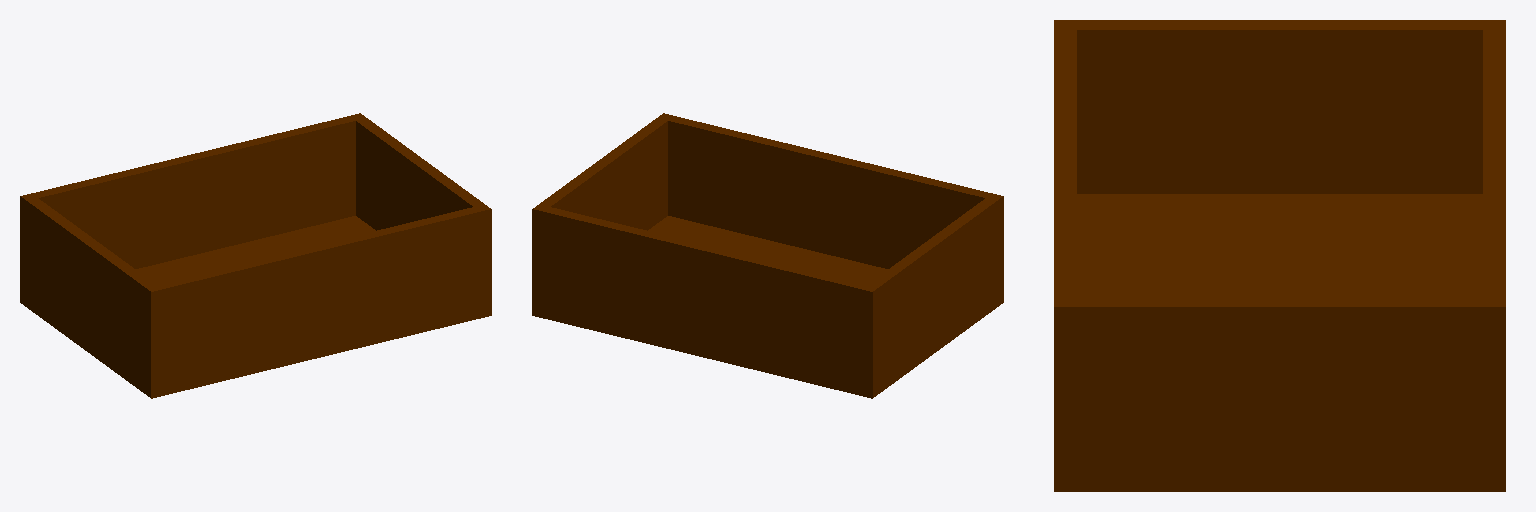
URDF robot description (container_no_lid):
<?xml version="1.0" encoding="utf-8"?>
<!-- =================================================================================== -->
<!-- |    This document was autogenerated by xacro from [local-path]/GS/catkin_ws/src/moma/moma_gazebo/data/models/container/container_no_lid.urdf.xacro | -->
<!-- |    EDITING THIS FILE BY HAND IS NOT RECOMMENDED                                 | -->
<!-- =================================================================================== -->
<robot name="container_no_lid">
  <material name="white">
    <color rgba="1 1 1 1"/>
  </material>
  <material name="dark_brown">
    <color rgba="0.4 0.2 0.0 1"/>
  </material>
  <material name="light_brown">
    <color rgba="0.6 0.29 0.0 1"/>
  </material>
  <material name="silver">
    <color rgba="0.87 0.87 0.87 0.8"/>
  </material>
  <link name="base_link">
    <inertial>
      <origin rpy="0 0 0" xyz="0 0 0"/>
      <mass value="0.0"/>
      <inertia ixx="1" ixy="0" ixz="0" iyy="1" iyz="0" izz="1"/>
    </inertial>
  </link>
  <link name="frame_bottom_plane">
    <contact>
      <lateral_friction value="1.0"/>
    </contact>
    <inertial>
      <origin rpy="0 0 0" xyz="0 0 0"/>
      <mass value="0.2"/>
      <inertia ixx="1" ixy="0" ixz="0" iyy="1" iyz="0" izz="1"/>
    </inertial>
    <visual>
      <origin rpy="0 0 0" xyz="0 0 0"/>
      <geometry>
        <box size="0.3 0.2 0.01"/>
      </geometry>
      <material name="dark_brown"/>
    </visual>
    <collision>
      <origin rpy="0 0 0" xyz="0 0 0"/>
      <geometry>
        <box size="0.3 0.2 0.01"/>
      </geometry>
    </collision>
  </link>
  <link name="frame_back_plane">
    <contact>
      <lateral_friction value="1.0"/>
    </contact>
    <inertial>
      <origin rpy="0 0 0" xyz="0 0 0"/>
      <mass value="0.2"/>
      <inertia ixx="1" ixy="0" ixz="0" iyy="1" iyz="0" izz="1"/>
    </inertial>
    <visual>
      <origin rpy="0 0 0" xyz="0 0 0"/>
      <geometry>
        <box size="0.3 0.09 0.01"/>
      </geometry>
      <material name="dark_brown"/>
    </visual>
    <collision>
      <origin rpy="0 0 0" xyz="0 0 0"/>
      <geometry>
        <box size="0.3 0.09 0.01"/>
      </geometry>
    </collision>
  </link>
  <joint name="frame_back_joint" type="fixed">
    <origin rpy="1.57079632679 0 0" xyz="0 0.095 0.04"/>
    <parent link="frame_bottom_plane"/>
    <child link="frame_back_plane"/>
  </joint>
  <link name="frame_left_plane">
    <contact>
      <lateral_friction value="1.0"/>
    </contact>
    <inertial>
      <origin rpy="0 0 0" xyz="0 0 0"/>
      <mass value="0.2"/>
      <inertia ixx="1" ixy="0" ixz="0" iyy="1" iyz="0" izz="1"/>
    </inertial>
    <visual>
      <origin rpy="0 0 0" xyz="0 0 0"/>
      <geometry>
        <box size="0.18 0.09 0.01"/>
      </geometry>
      <material name="dark_brown"/>
    </visual>
    <collision>
      <origin rpy="0 0 0" xyz="0 0 0"/>
      <geometry>
        <box size="0.18 0.09 0.01"/>
      </geometry>
    </collision>
  </link>
  <joint name="frame_left_joint" type="fixed">
    <origin rpy="1.57079632679 0 1.57079632679" xyz="-0.145 0 0.04"/>
    <parent link="frame_bottom_plane"/>
    <child link="frame_left_plane"/>
  </joint>
  <link name="frame_right_plane">
    <contact>
      <lateral_friction value="1.0"/>
    </contact>
    <inertial>
      <origin rpy="0 0 0" xyz="0 0 0"/>
      <mass value="0.2"/>
      <inertia ixx="1" ixy="0" ixz="0" iyy="1" iyz="0" izz="1"/>
    </inertial>
    <visual>
      <origin rpy="0 0 0" xyz="0 0 0"/>
      <geometry>
        <box size="0.18 0.09 0.01"/>
      </geometry>
      <material name="dark_brown"/>
    </visual>
    <collision>
      <origin rpy="0 0 0" xyz="0 0 0"/>
      <geometry>
        <box size="0.18 0.09 0.01"/>
      </geometry>
    </collision>
  </link>
  <joint name="frame_right_joint" type="fixed">
    <origin rpy="1.57079632679 0 1.57079632679" xyz="0.145 0 0.04"/>
    <parent link="frame_bottom_plane"/>
    <child link="frame_right_plane"/>
  </joint>
  <link name="frame_front_plane">
    <contact>
      <lateral_friction value="1.0"/>
    </contact>
    <inertial>
      <origin rpy="0 0 0" xyz="0 0 0"/>
      <mass value="0.2"/>
      <inertia ixx="1" ixy="0" ixz="0" iyy="1" iyz="0" izz="1"/>
    </inertial>
    <visual>
      <origin rpy="0 0 0" xyz="0 0 0"/>
      <geometry>
        <box size="0.3 0.09 0.01"/>
      </geometry>
      <material name="dark_brown"/>
    </visual>
    <collision>
      <origin rpy="0 0 0" xyz="0 0 0"/>
      <geometry>
        <box size="0.3 0.09 0.01"/>
      </geometry>
    </collision>
  </link>
  <joint name="frame_front_joint" type="fixed">
    <origin rpy="1.57079632679 0 0" xyz="0 -0.095 0.04"/>
    <parent link="frame_bottom_plane"/>
    <child link="frame_front_plane"/>
  </joint>
  <joint name="frame_joint" type="fixed">
    <origin rpy="0 0 0" xyz="0 0 0.005"/>
    <parent link="base_link"/>
    <child link="frame_bottom_plane"/>
  </joint>
</robot>

--- Facts derived from the render (not from the file) ---
3 views of the same robot in one strip: view 1: azimuth 30°, elevation 25°; view 2: azimuth 150°, elevation 25°; view 3: azimuth 270°, elevation 25° (orthographic).
Model container_no_lid with 6 links and 5 joints (5 fixed), rooted at base_link, posed all joints at 0.
Links seen in each view (by area): view 1: frame_front_plane, frame_back_plane, frame_left_plane, frame_bottom_plane, frame_right_plane; view 2: frame_back_plane, frame_front_plane, frame_left_plane, frame_right_plane, frame_bottom_plane; view 3: frame_right_plane, frame_left_plane, frame_bottom_plane, frame_front_plane, frame_back_plane.
Link boxes in pixels (left/top/right/bottom): frame_front_plane: left=145, top=204, right=491, bottom=398; frame_back_plane: left=20, top=113, right=365, bottom=306; frame_left_plane: left=27, top=198, right=155, bottom=390; frame_bottom_plane: left=20, top=216, right=491, bottom=398; frame_right_plane: left=356, top=118, right=483, bottom=230; frame_back_plane: left=532, top=204, right=878, bottom=397; frame_front_plane: left=658, top=113, right=1003, bottom=306; frame_left_plane: left=868, top=198, right=996, bottom=390; frame_right_plane: left=540, top=118, right=667, bottom=230; frame_bottom_plane: left=532, top=216, right=1003, bottom=398; frame_right_plane: left=1077, top=298, right=1482, bottom=491; frame_left_plane: left=1077, top=20, right=1482, bottom=193; frame_bottom_plane: left=1054, top=194, right=1505, bottom=491; frame_front_plane: left=1054, top=20, right=1076, bottom=491; frame_back_plane: left=1483, top=20, right=1505, bottom=491.
Size in the robot's own frame: 0.3 by 0.2 by 0.09 metres.
Geometry: primitives only (box / cylinder / sphere), no mesh files.